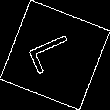L_NE: (26, 31, 84, 79)
